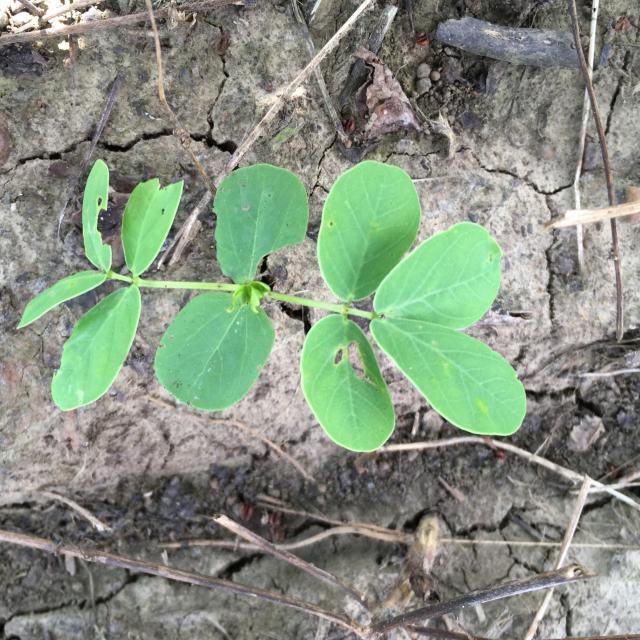Sicklepod: (16, 158, 528, 452)
